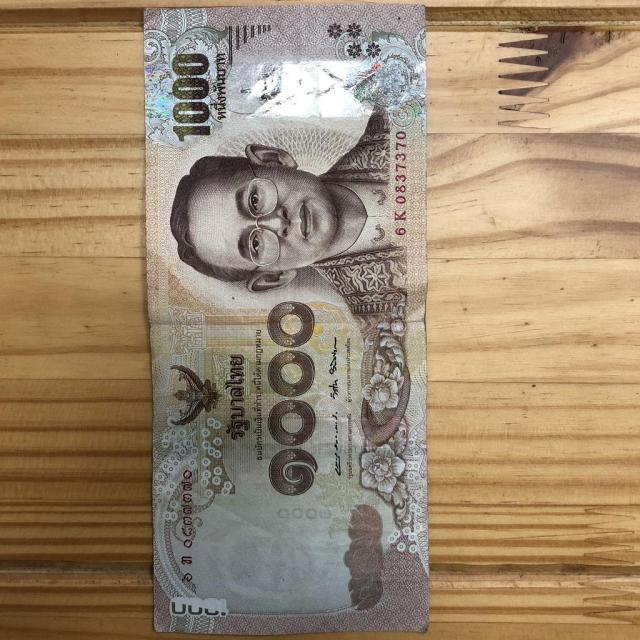THAI1000: (143, 5, 432, 638)
